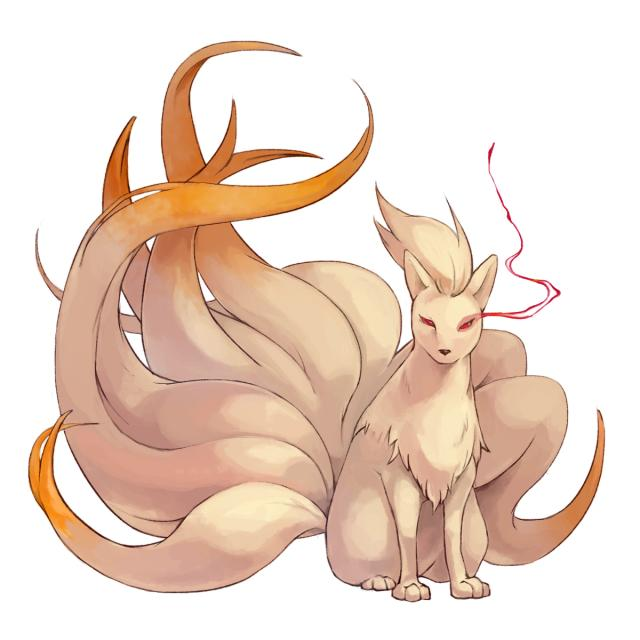Ninetales: (59, 182, 508, 608)
